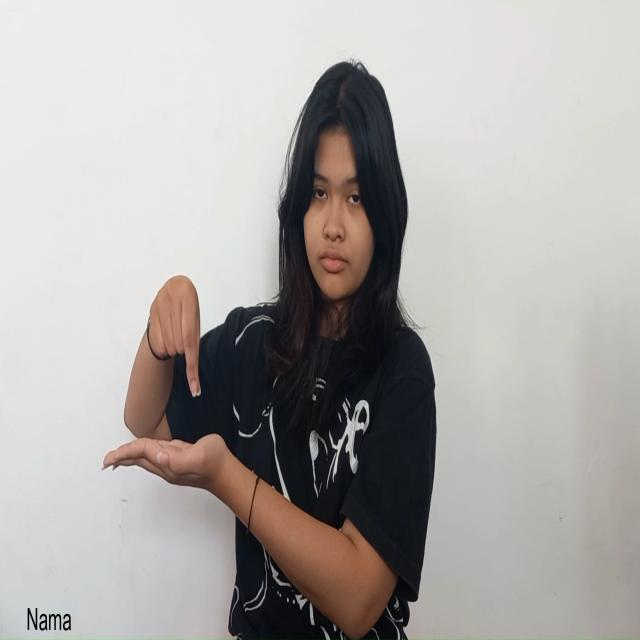Nama -BISINDO-: (100, 273, 227, 502)
